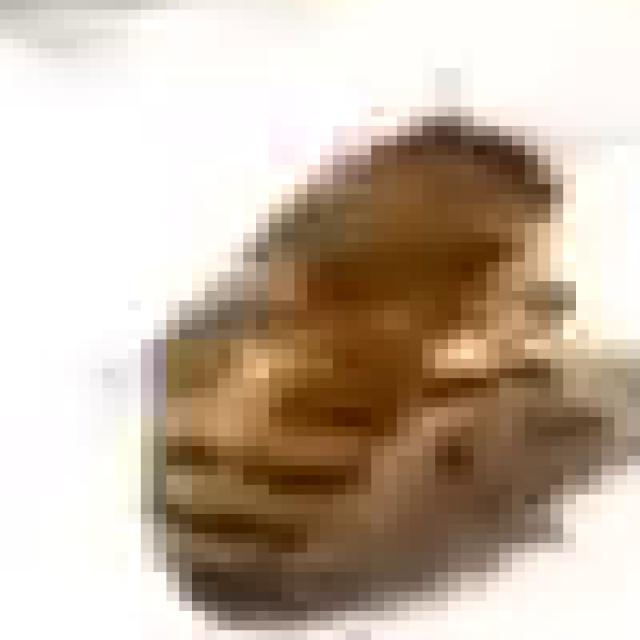honeybee: (148, 65, 610, 621)
